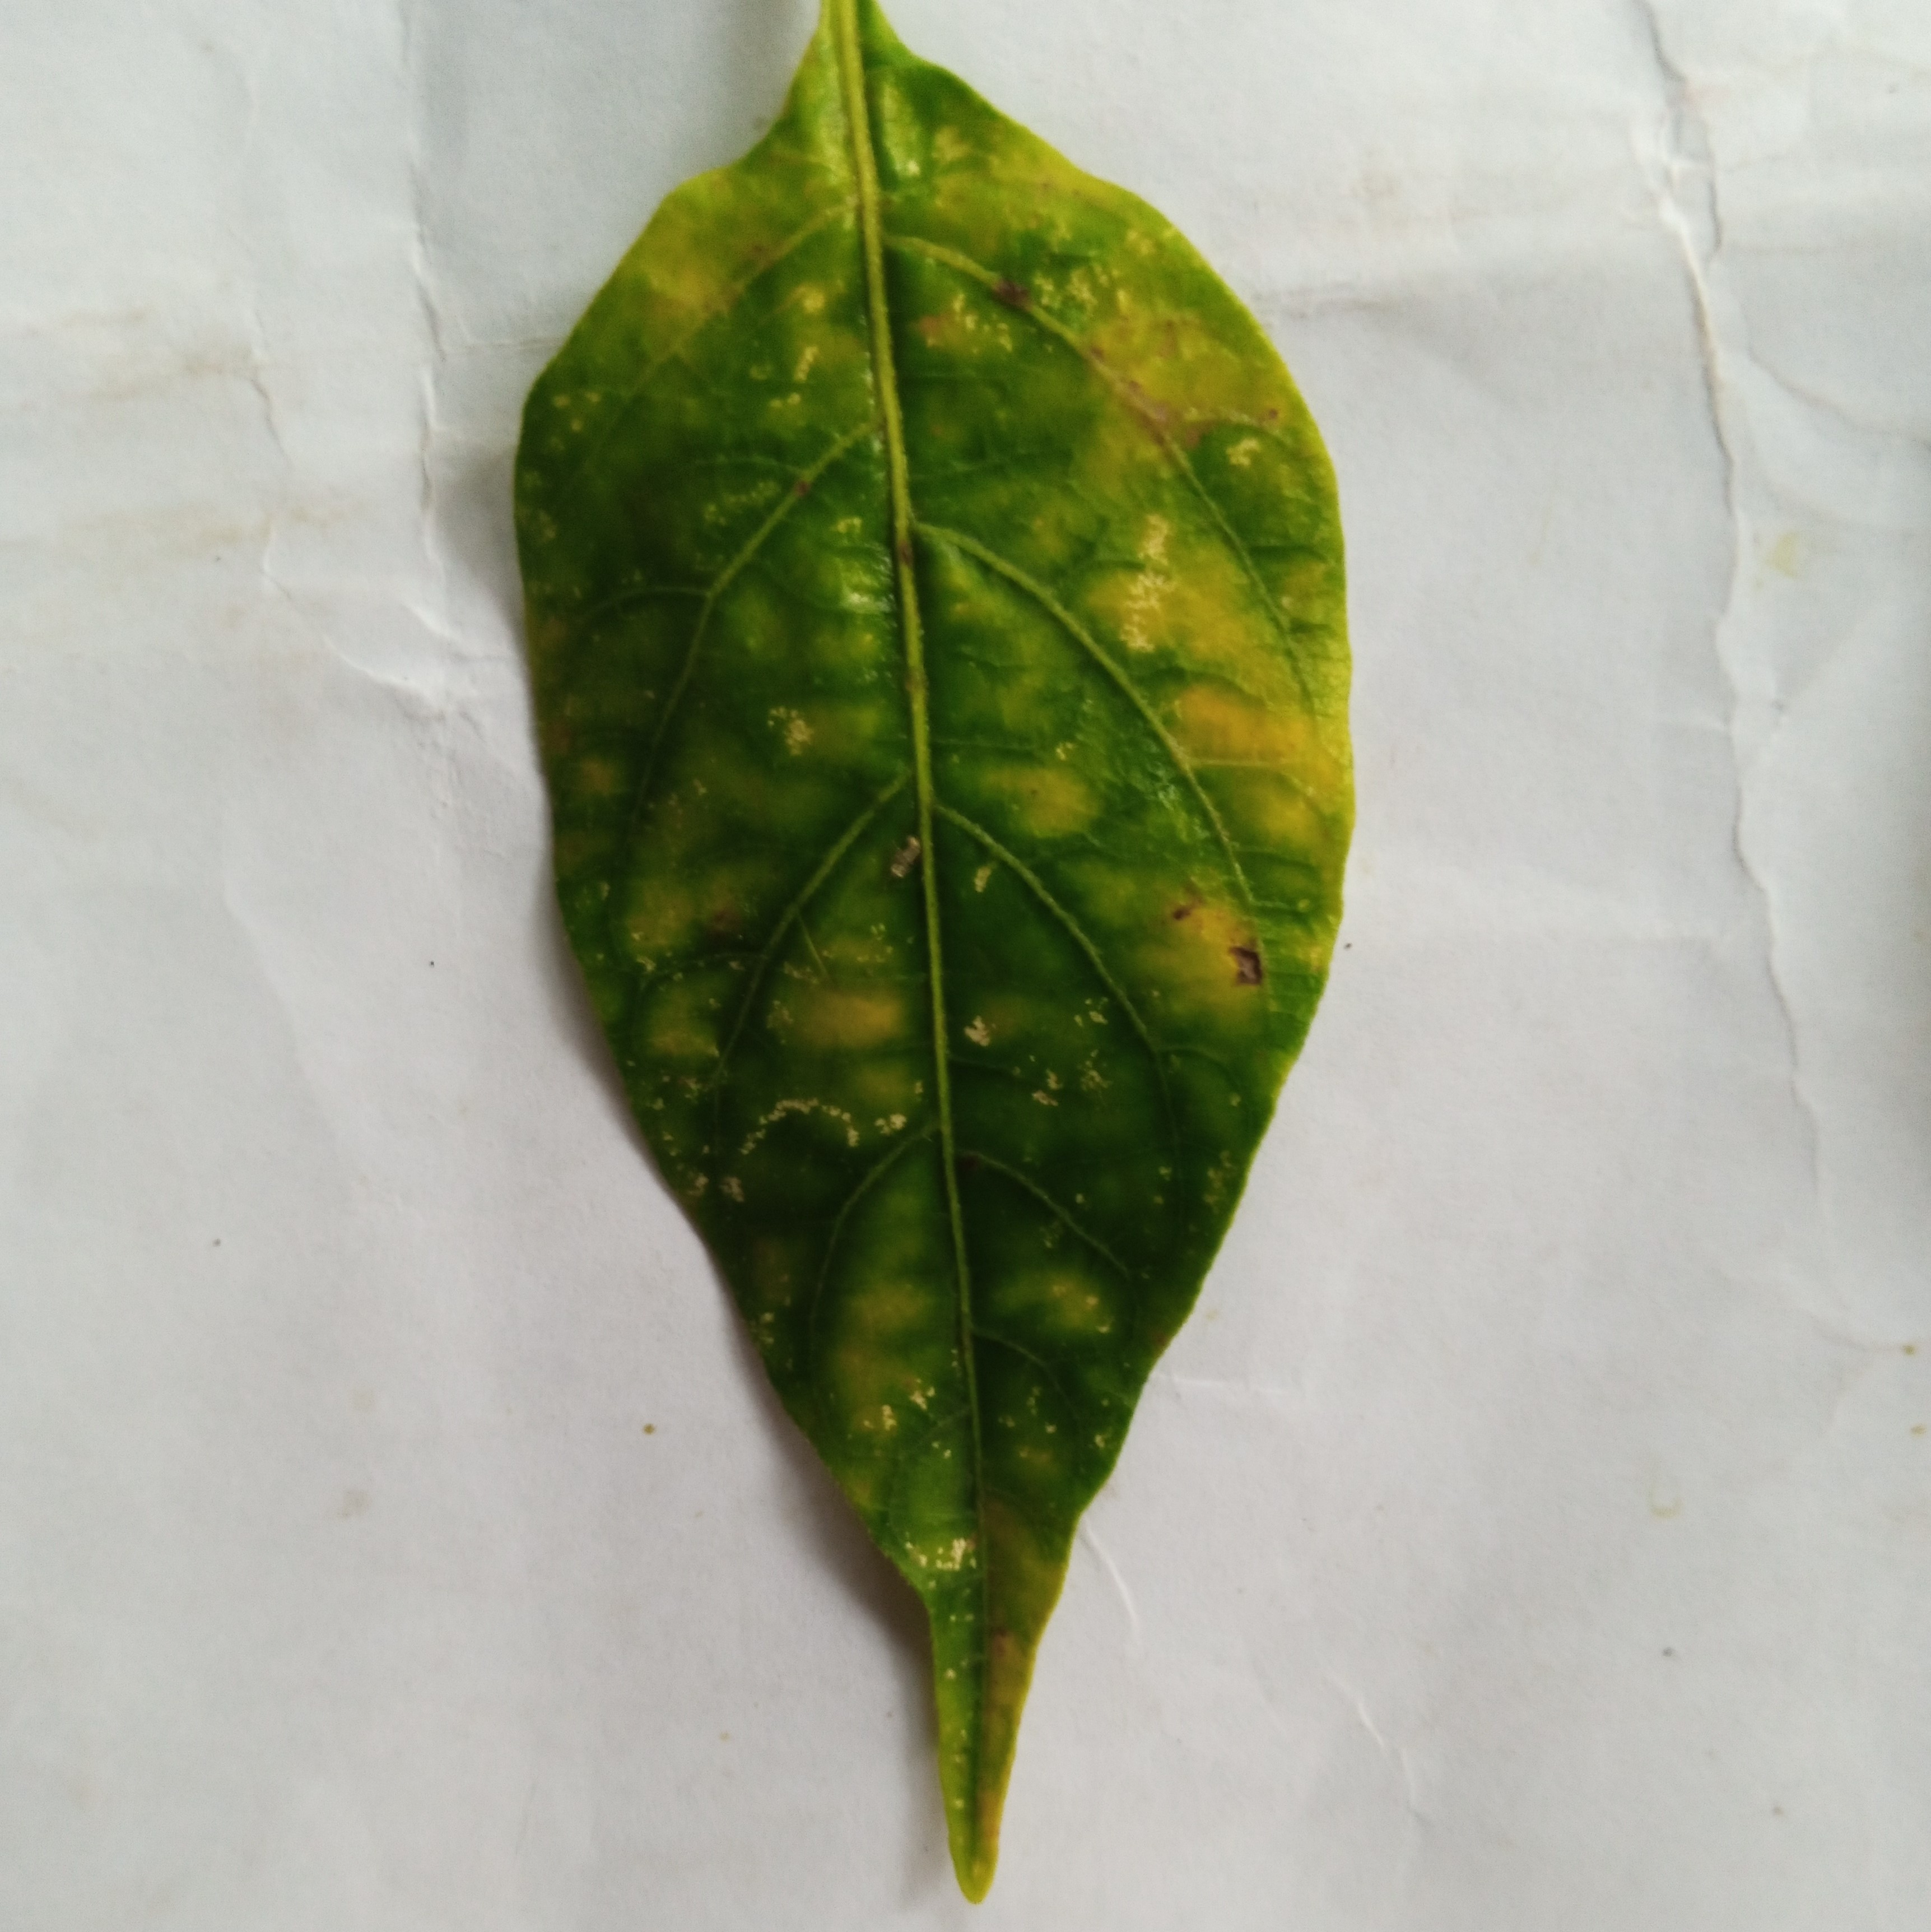Leaf: (343, 16, 1454, 1932)
